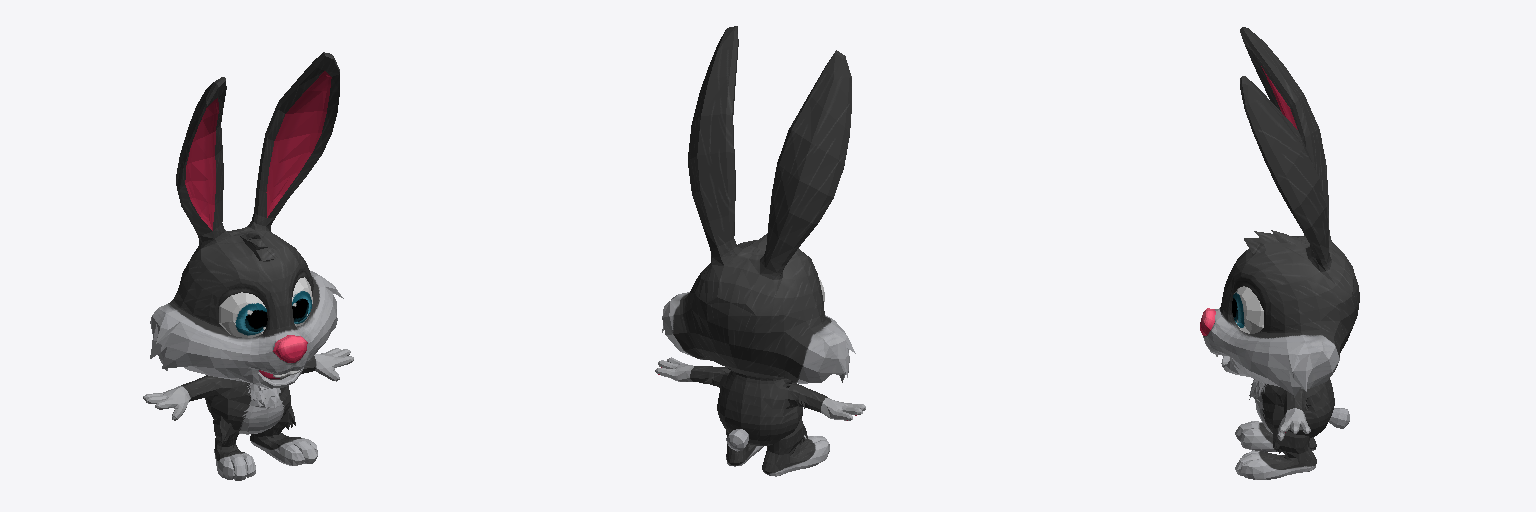
3 views of the same model, side by side, from view 1: azimuth 30°, elevation 25°; view 2: azimuth 150°, elevation 25°; view 3: azimuth 270°, elevation 25° (orthographic).
Parts seen in each view (by area): view 1: Sphere.001, Cube.013_Cube.003, Sphere.003; view 2: Sphere.001, Cube.013_Cube.003; view 3: Sphere.001, Cube.013_Cube.003, Sphere.003.
Part boxes in pixels (bbox=[...]): Sphere.001: bbox=[143, 52, 353, 434]; Cube.013_Cube.003: bbox=[213, 405, 317, 480]; Sphere.003: bbox=[219, 277, 312, 337]; Sphere.001: bbox=[655, 26, 865, 445]; Cube.013_Cube.003: bbox=[726, 418, 829, 476]; Sphere.001: bbox=[1200, 27, 1359, 440]; Cube.013_Cube.003: bbox=[1235, 421, 1316, 479]; Sphere.003: bbox=[1232, 286, 1263, 333].
Bounding box in the file's own units: 1.39 × 2.66 × 0.9438.
Materials: 1 (1 with a texture image).